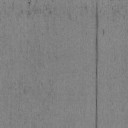surface scratch: (95, 3, 98, 128)
